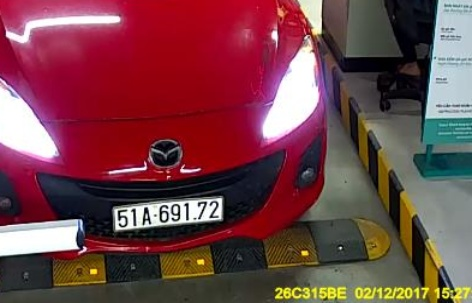plate: (111, 197, 230, 233)
